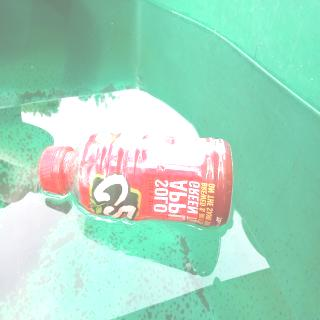bottle: (39, 131, 233, 229)
